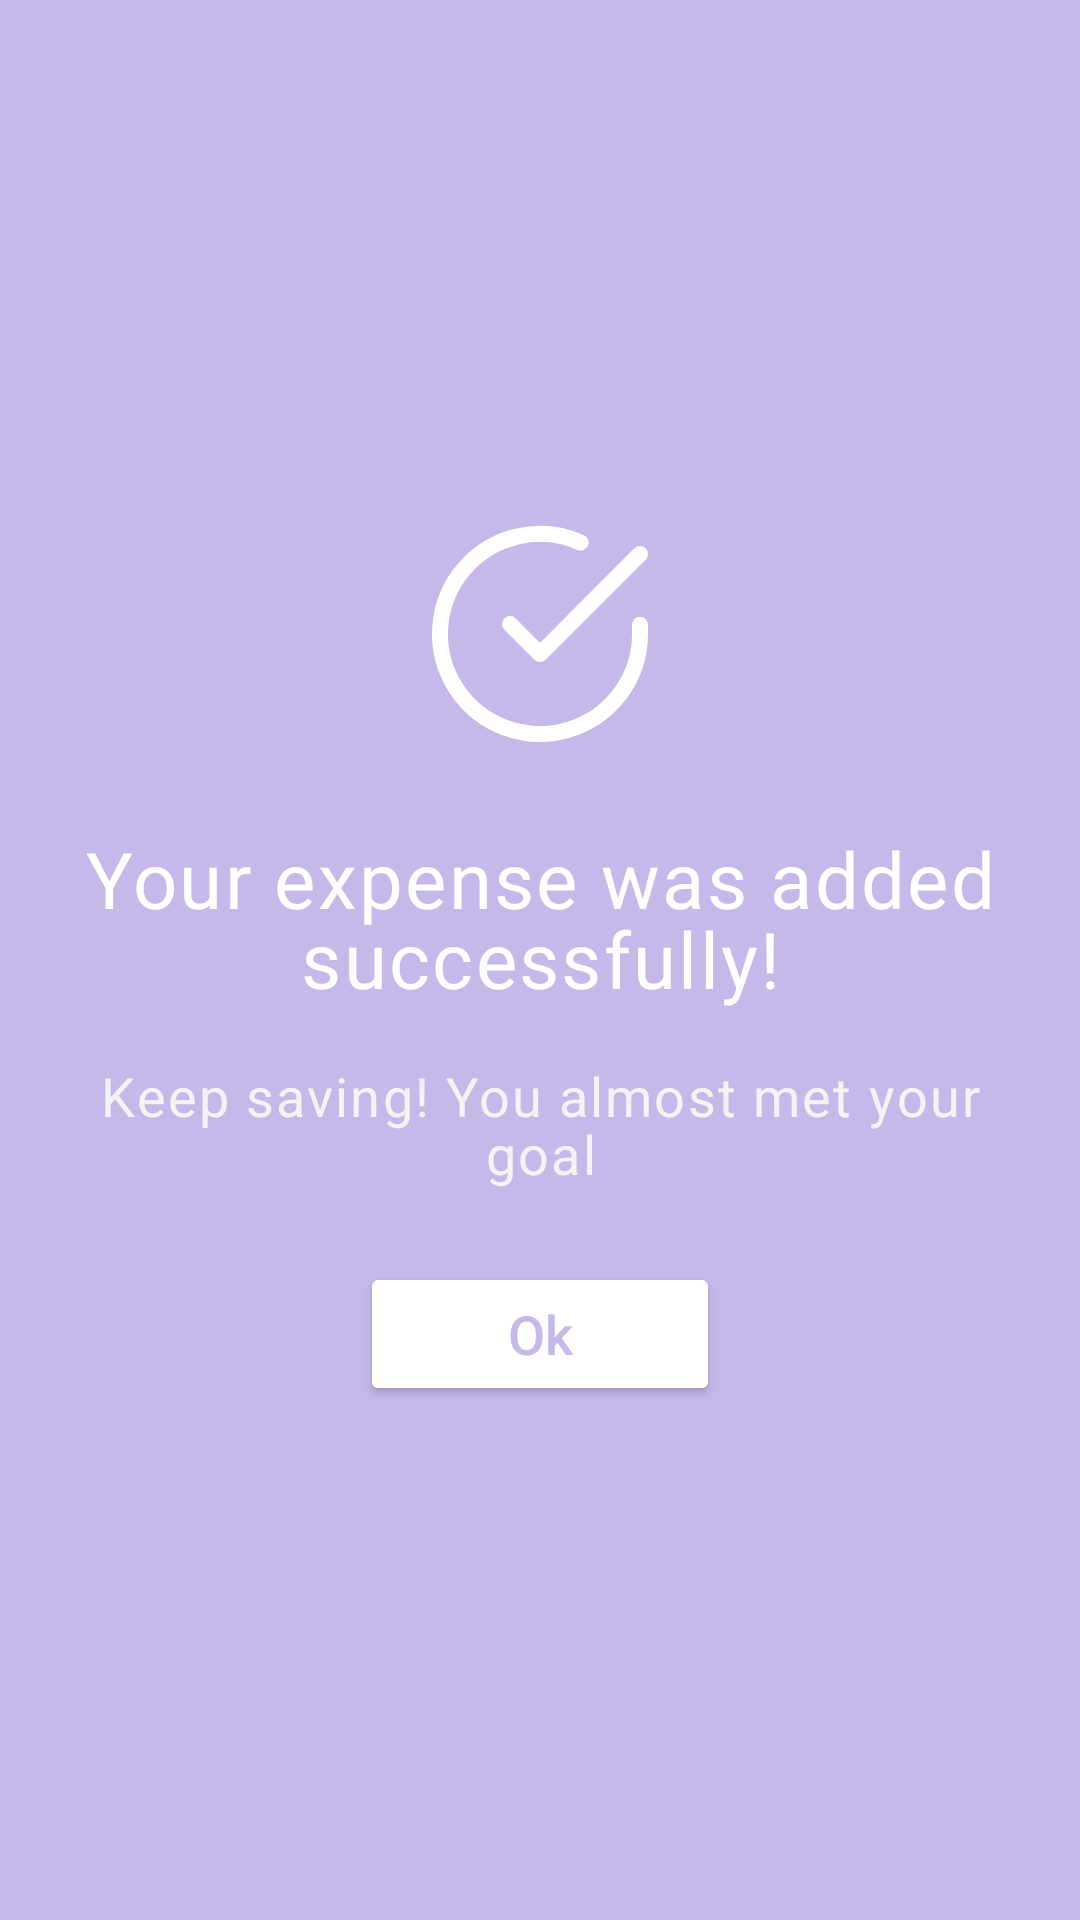

Where icons sit on this 1080px x 1920px app screen, as (x1, y1, x2, y2):
check circle: (432, 526, 648, 742)
